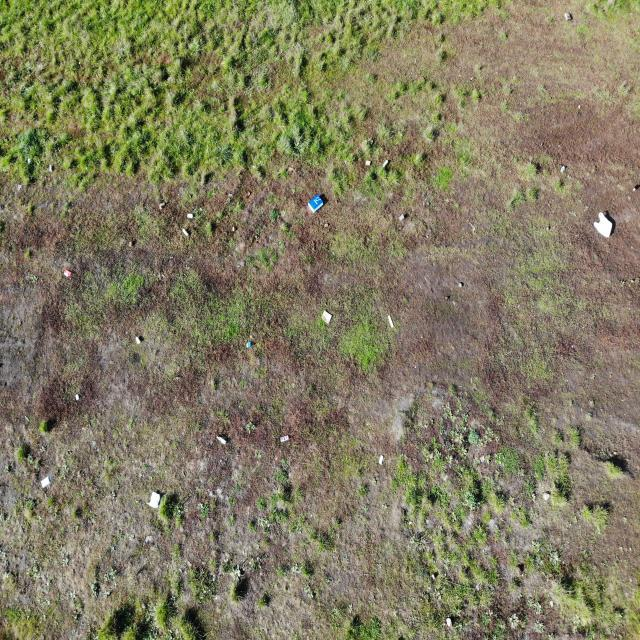rubbish: (592, 211, 614, 239), (307, 195, 326, 214), (318, 309, 333, 327), (149, 491, 163, 510), (557, 161, 570, 178), (39, 476, 53, 487), (386, 313, 395, 330), (563, 11, 575, 22), (278, 434, 290, 444), (216, 435, 228, 445), (398, 211, 409, 221), (382, 157, 391, 168), (62, 268, 73, 277), (243, 340, 252, 350), (181, 227, 189, 237), (158, 203, 168, 211), (631, 182, 638, 193), (134, 335, 142, 344), (74, 393, 82, 401), (379, 454, 385, 464), (365, 159, 372, 167), (187, 211, 193, 220), (26, 158, 32, 167), (229, 225, 236, 232), (48, 164, 53, 173), (127, 240, 132, 247)
